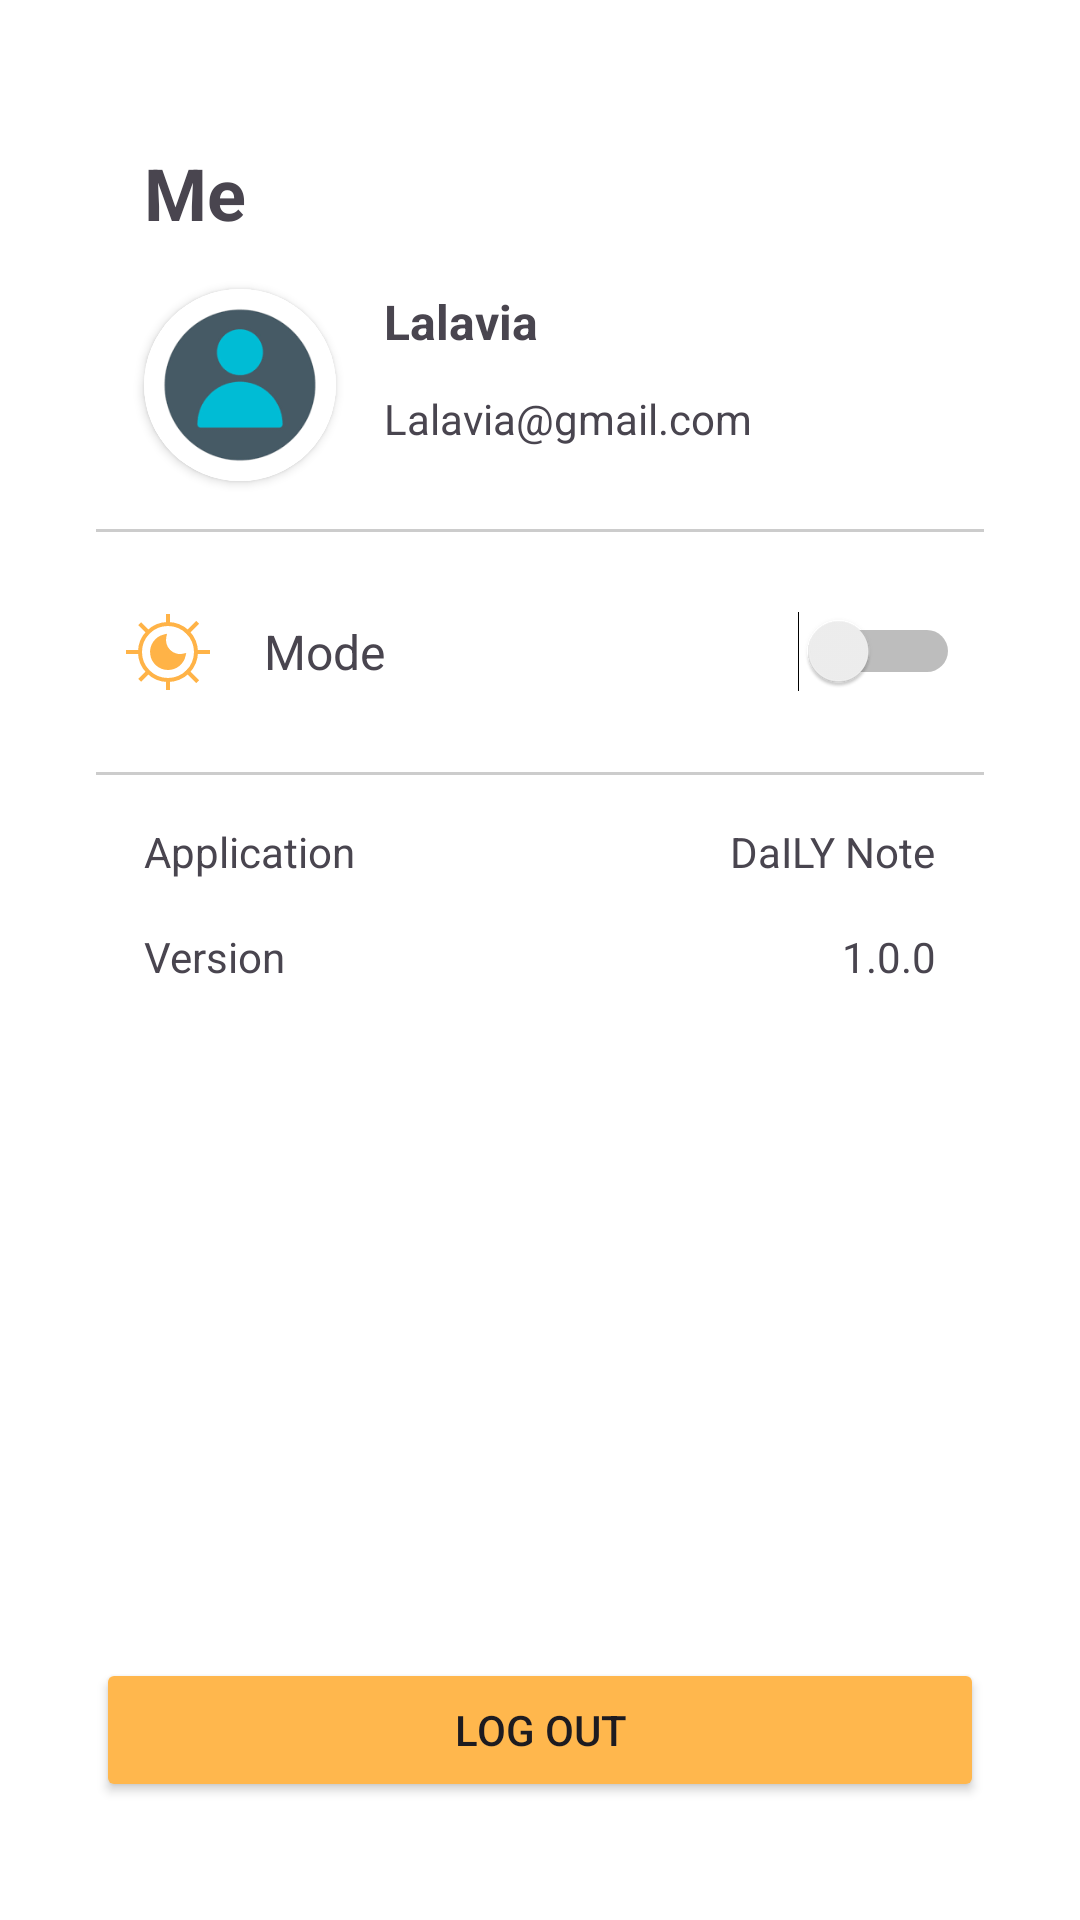

Icon click points for this 1080px×1920px phone screenshot, format point (x, y):
night: point (168, 652)
